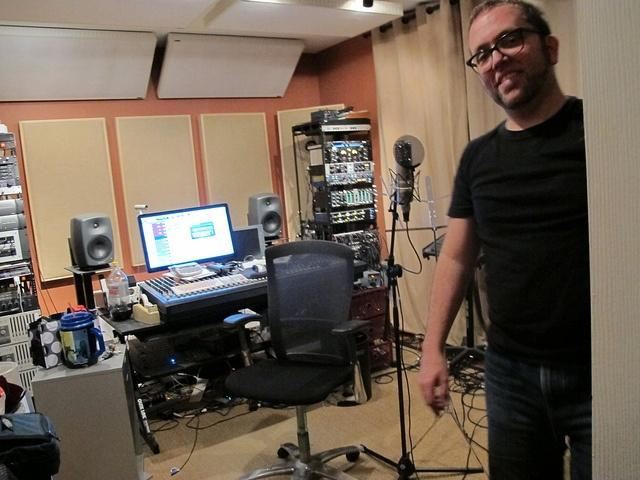AIO PC-Monitor-TV: (137, 201, 238, 273)
Kursi: (222, 238, 369, 479)
